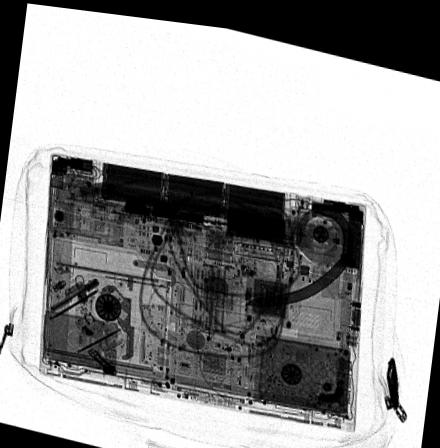Baton: (100, 167, 349, 246)
